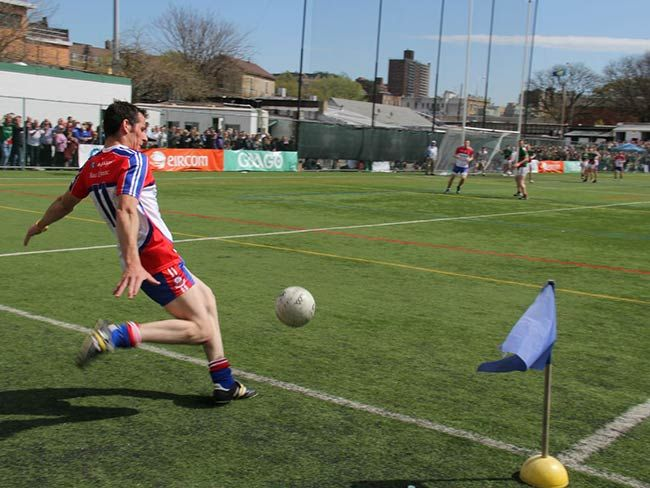ball: (277, 286, 315, 326)
player: (90, 98, 231, 390)
